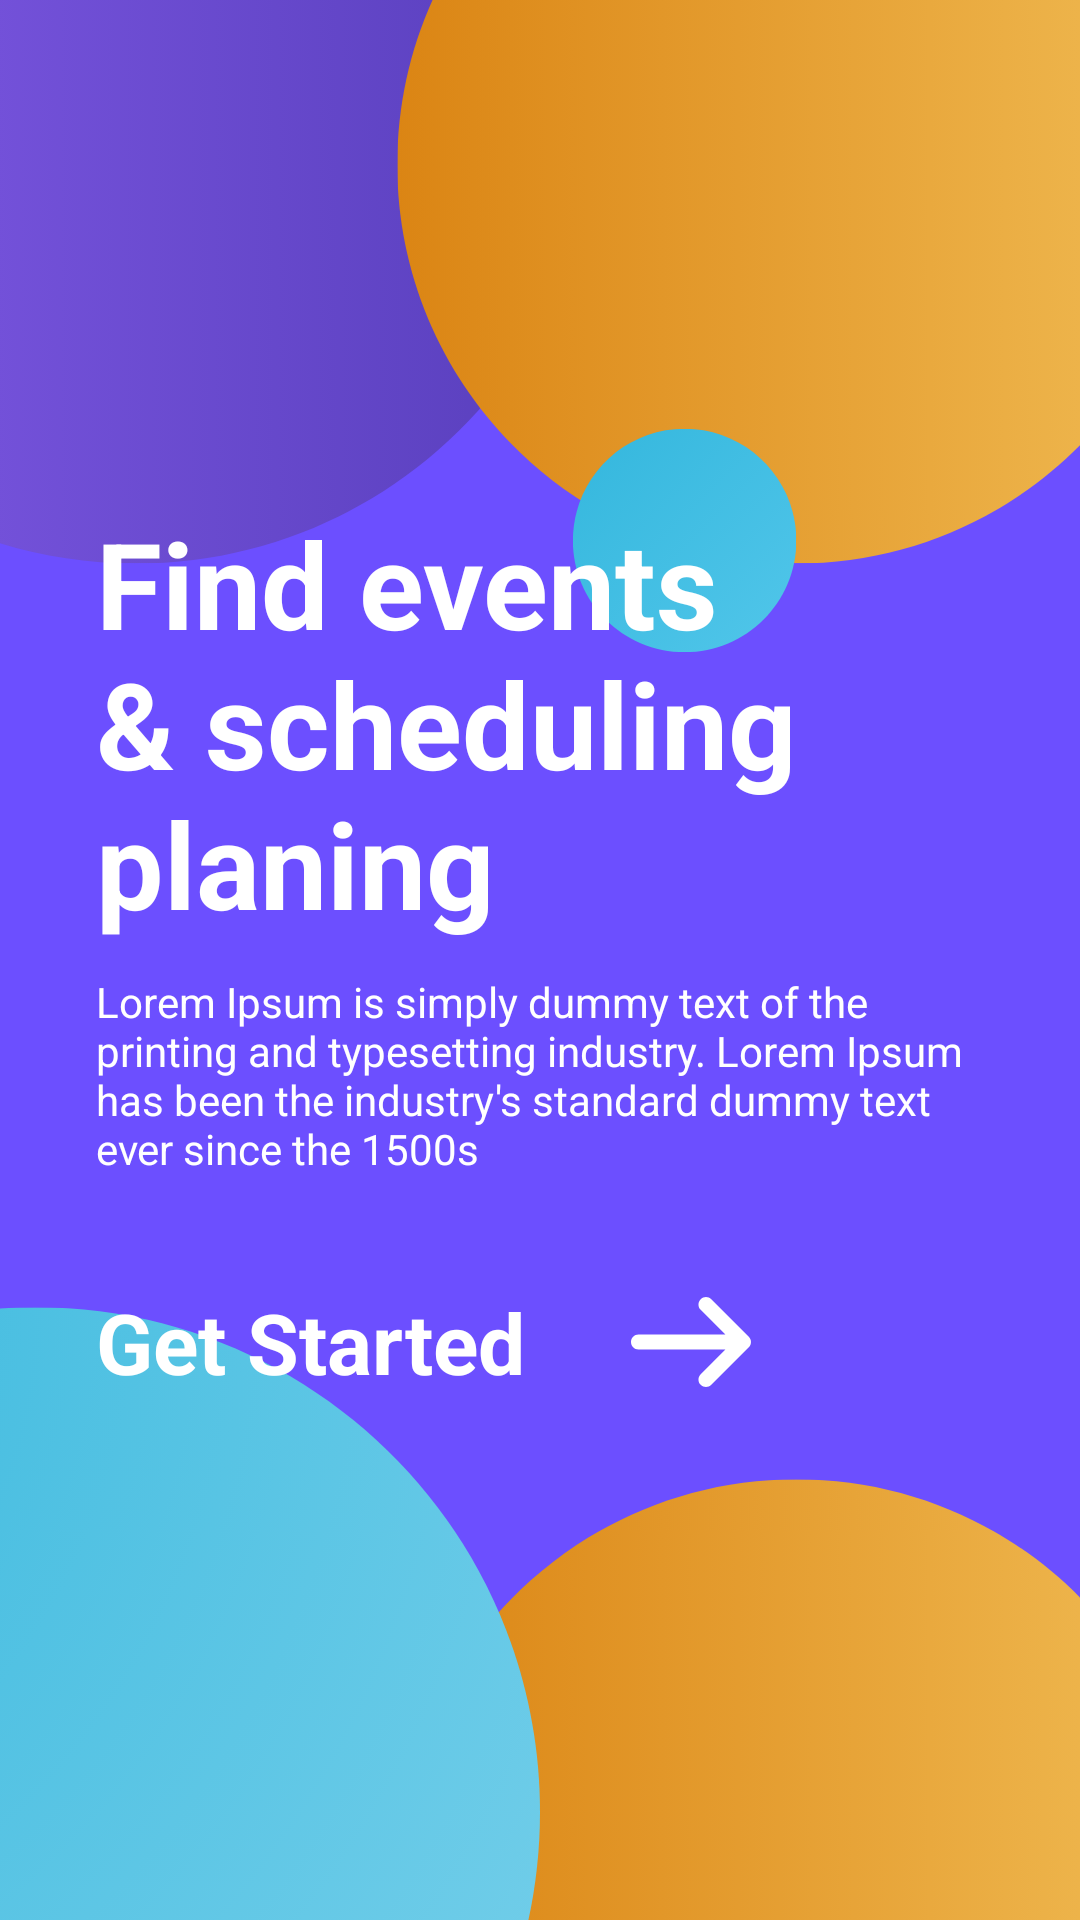

Screen size 1080x1920. Icon name, then its center in pixels as point (x, y):
arrow right: point (691, 1342)
